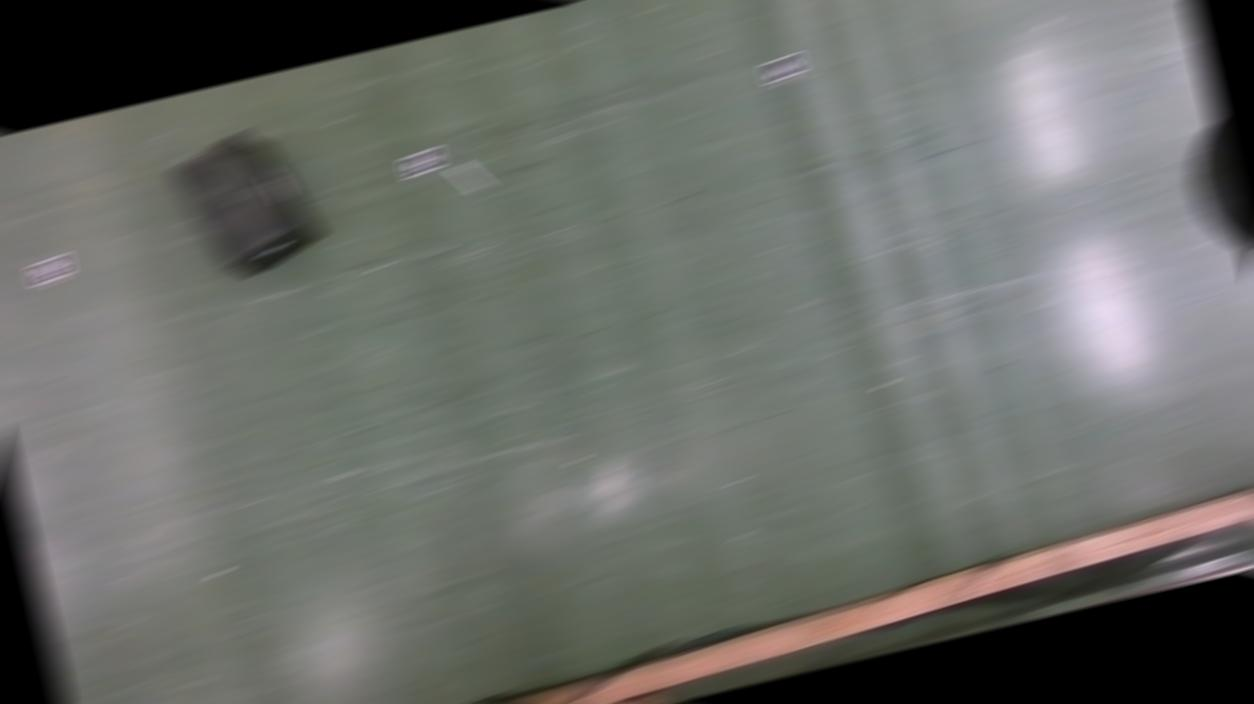probes: (453, 163, 488, 195)
rako: (165, 123, 329, 289)
